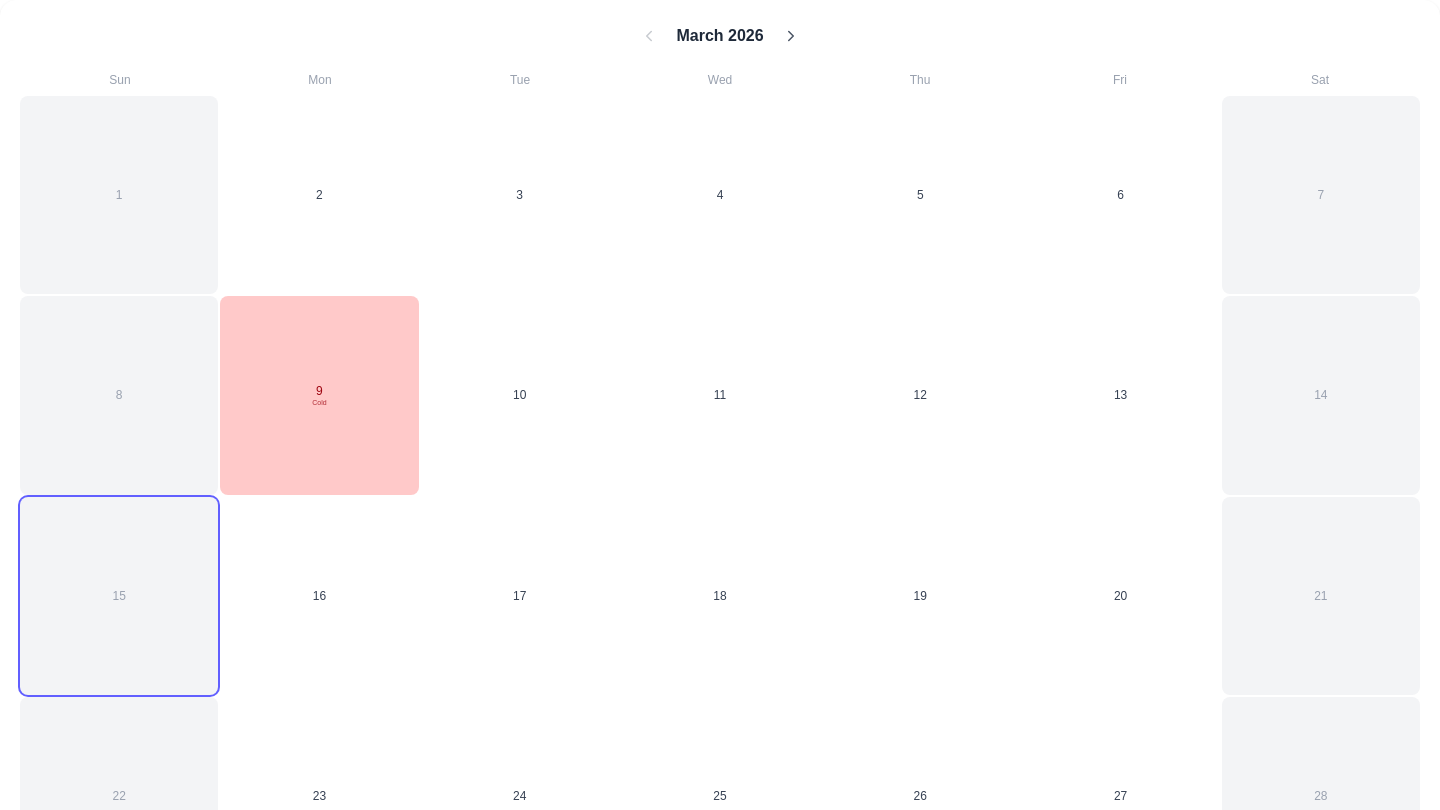
Test: CalendarView — sick leave popover badge › does NOT show 'Approved' badge for a sick-leave entry
Click the text "9". click: (319, 391)
box: [316,383,323,399]
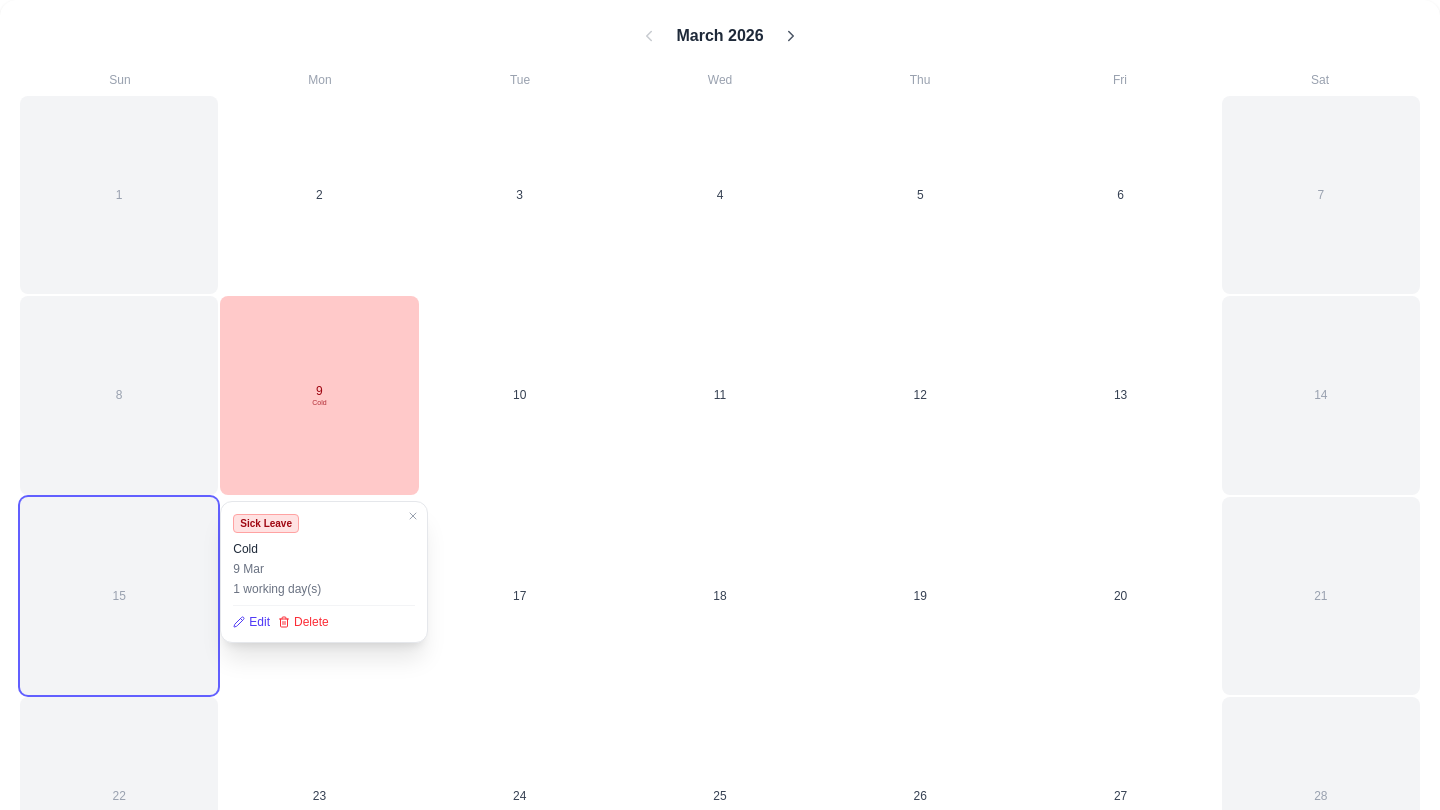
Expected: the tooltip does not show "Approved", [220,501,428,643]
Now the tooltip shows "Sick Leave", box [240,518,292,529]
